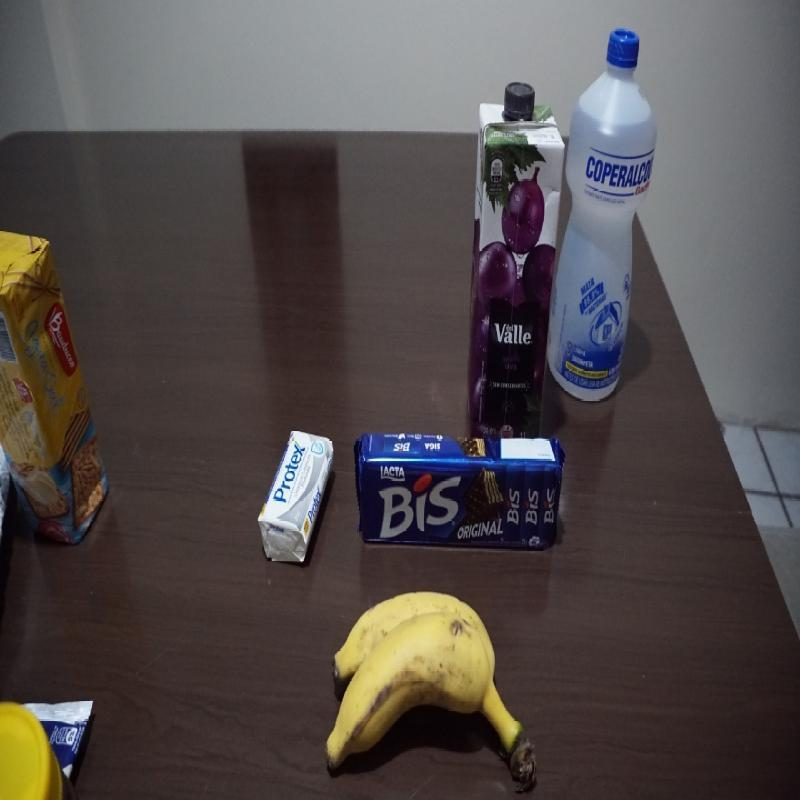Alcohol Bottle: (546, 28, 656, 409)
Banana: (324, 591, 540, 782)
Chocolate Powder: (1, 697, 70, 797)
Cracker: (1, 225, 117, 553)
Popcorn: (35, 687, 97, 776)
Soap: (256, 429, 335, 564)
